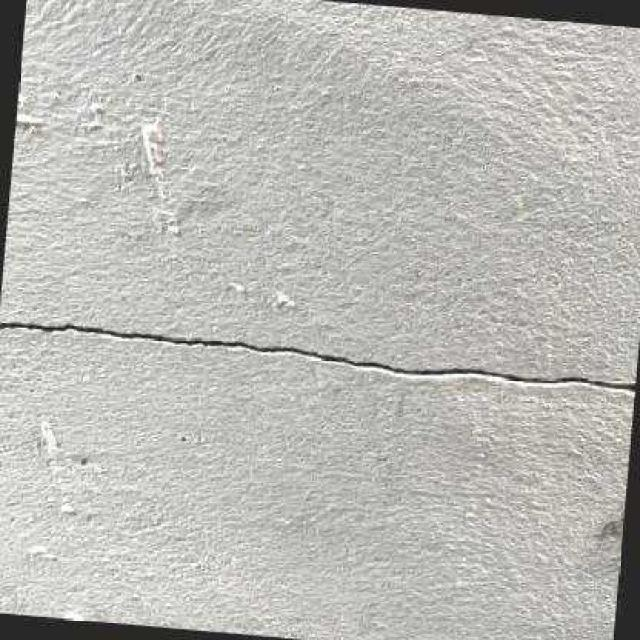D00: (7, 317, 636, 398)
